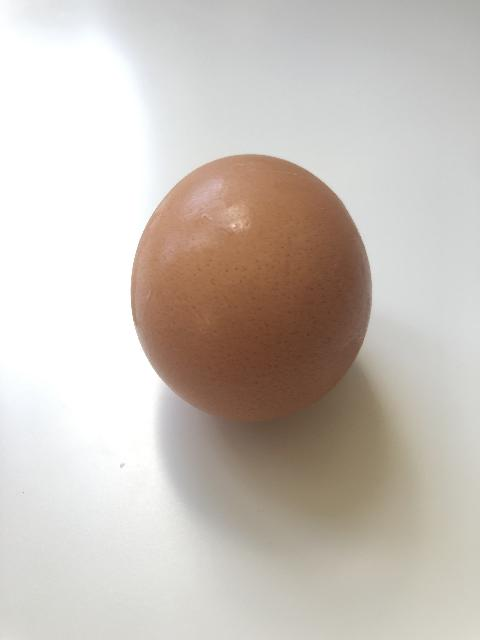Sano: (129, 152, 373, 423)
